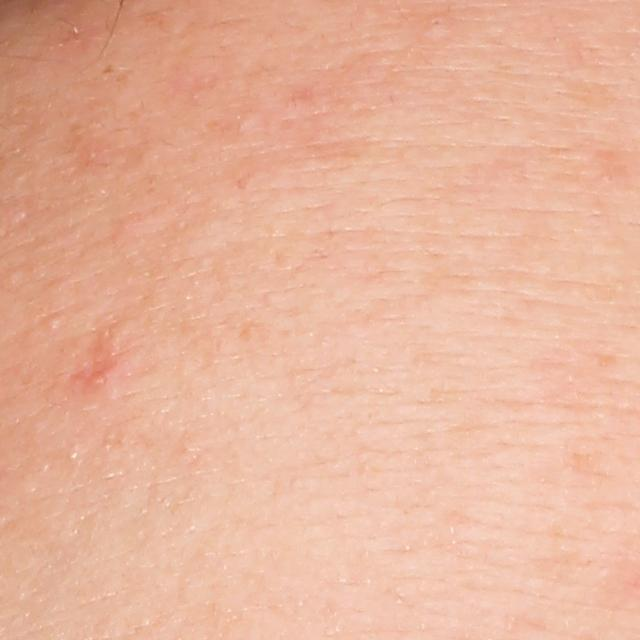comedo: (425, 12, 450, 33), (42, 312, 62, 332)
papule: (85, 369, 109, 391)
